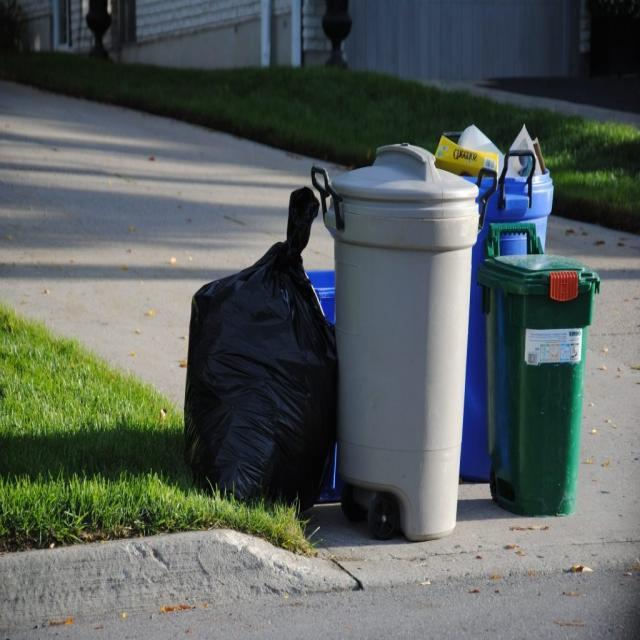Vinyl: (182, 186, 342, 520)
